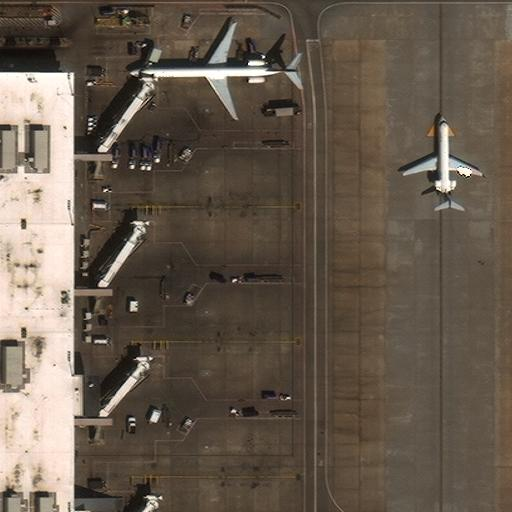Medium Civil Transport: (128, 24, 298, 120), (403, 114, 480, 211)
